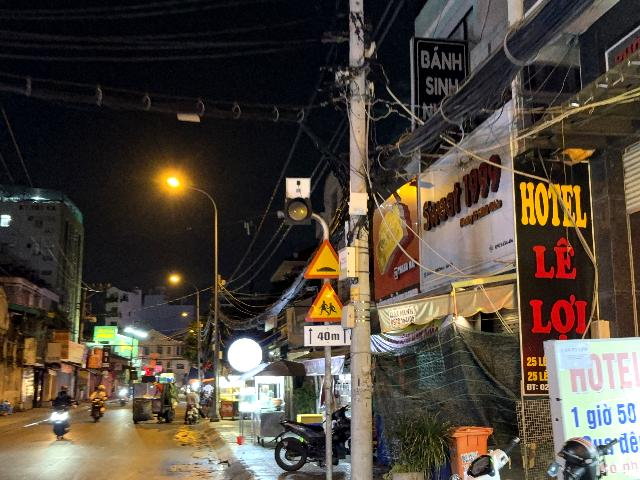duong-co-go-giam-toc: (303, 239, 339, 279)
tre-em-qua-duong: (306, 281, 343, 321)
